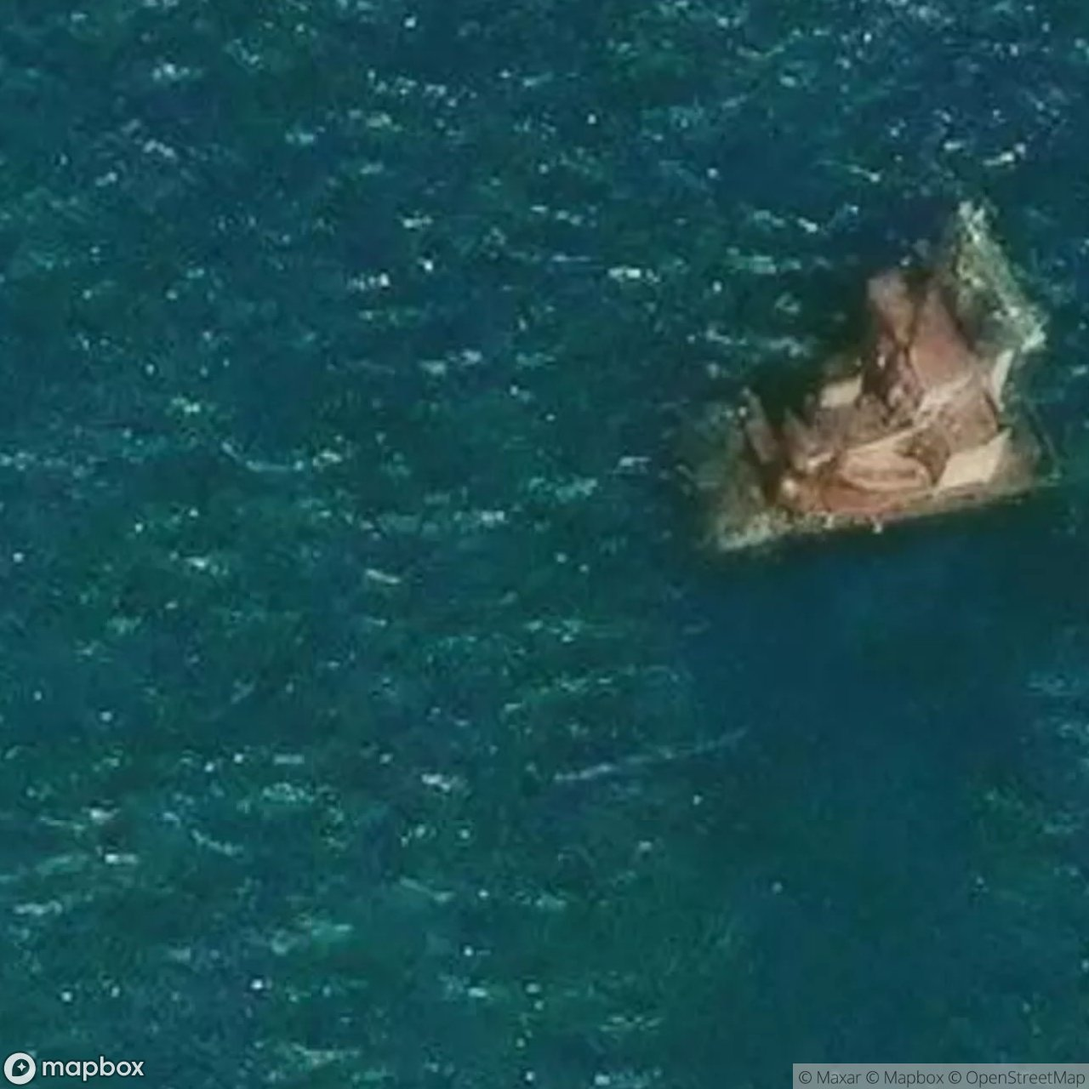Wreck: (634, 181, 1089, 575)
